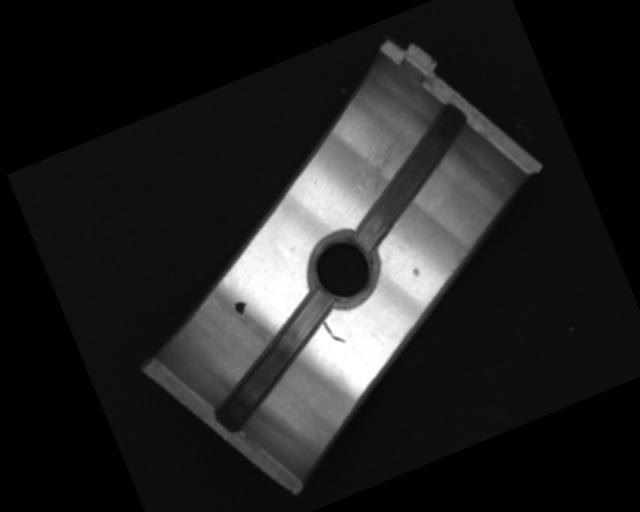blot: (232, 299, 251, 318)
bruise: (410, 265, 421, 278)
gap: (322, 100, 498, 254), (189, 291, 357, 433)
hole: (298, 227, 388, 315)
nick: (321, 315, 346, 347)
scratch: (344, 125, 428, 203)
